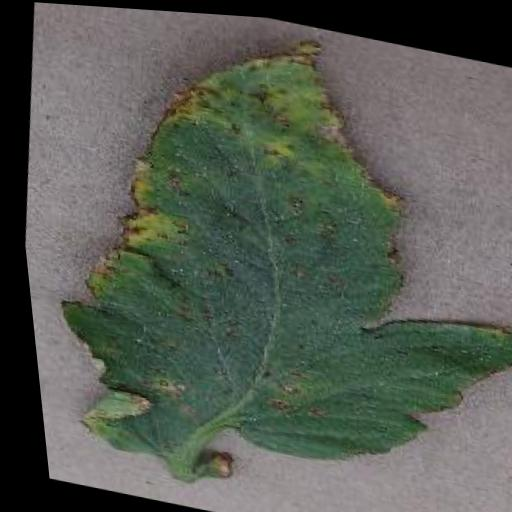Bacterial Spot: (2, 0, 512, 512)
